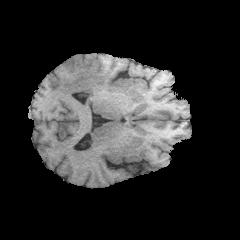glioma: (64, 61, 121, 94)
